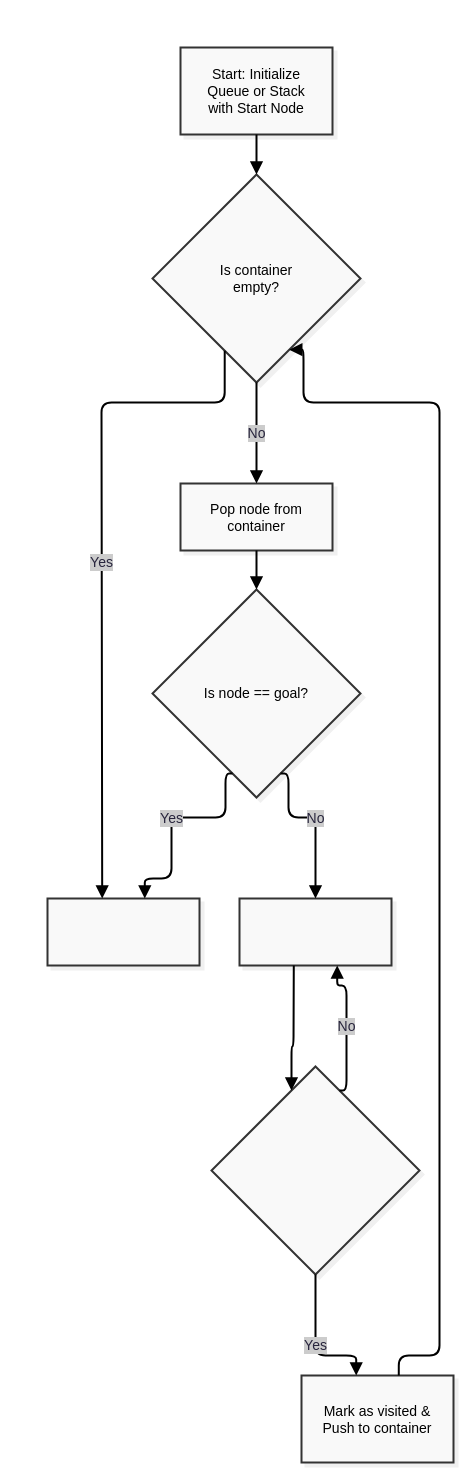
The diagram is 475 pixels wide and 1484 high, and some of its shapes have lost their labels. Here are the shapes that lost their labels. From the top down, the centre of each, then its label:
(x=125, y=933): Return total nodes_expanded
(x=317, y=933): Iterate through neighbors
(x=317, y=1172): Is neighbor unvisited?
